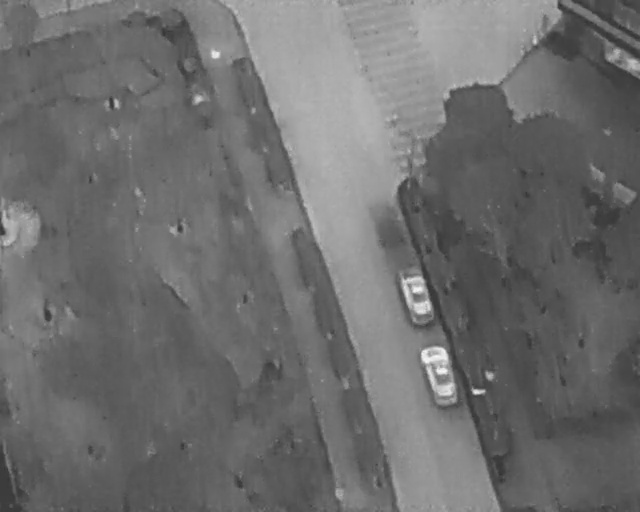Car: (416, 340, 464, 410), (395, 264, 441, 331)
